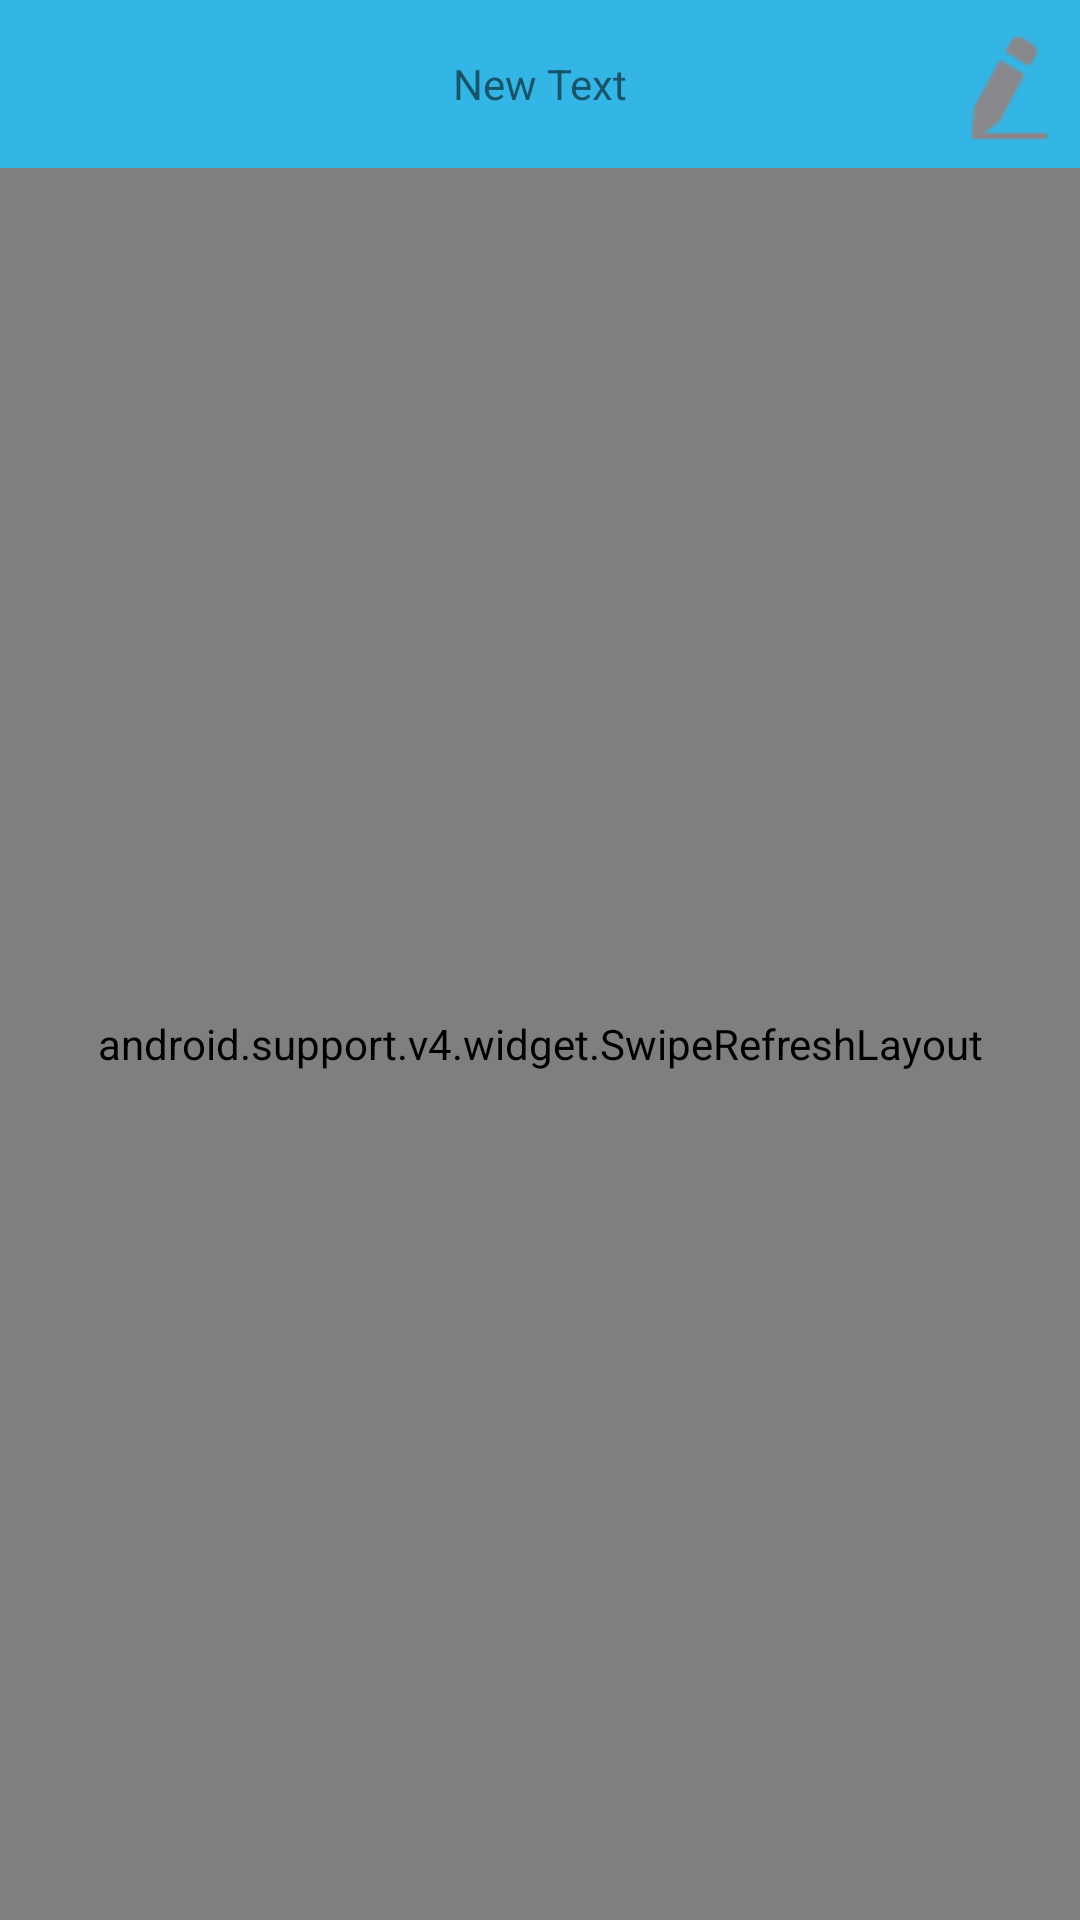

Where to tap for icons on this 1080w x 1920h app screen, as [x,y]:
im draft night: [1009,88]
